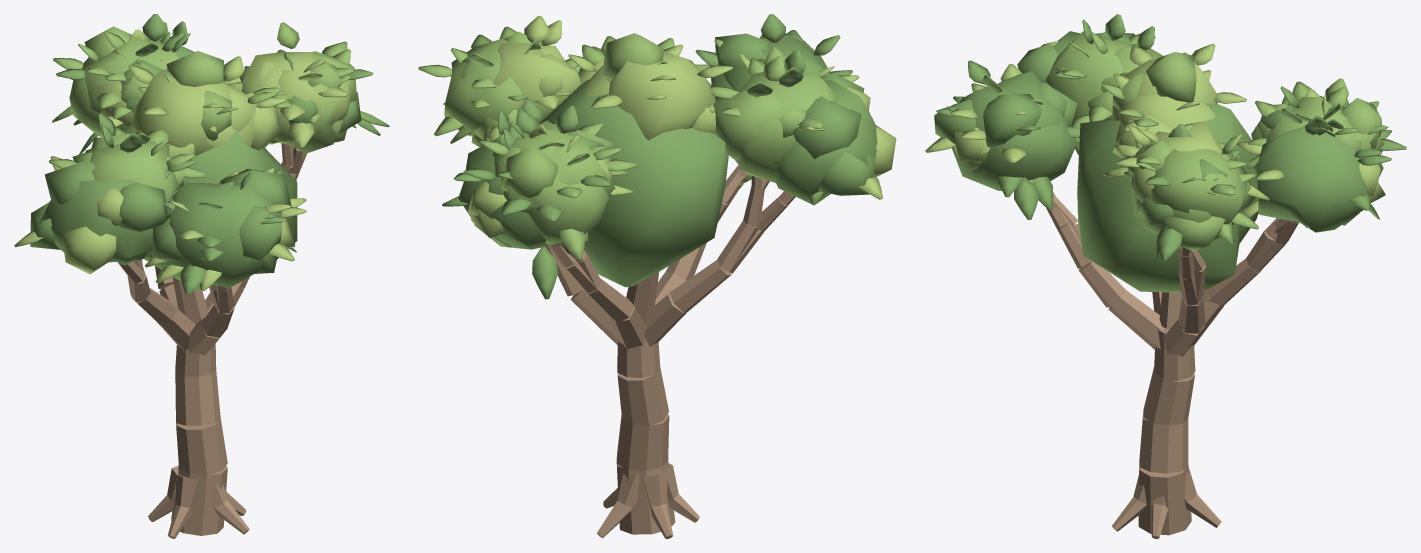
File: Tree_1.gltf
3 views of the same model, side by side, from view 1: azimuth 30°, elevation 25°; view 2: azimuth 150°, elevation 25°; view 3: azimuth 270°, elevation 25° (orthographic). The views are drawn at different scales.
Visible parts, largest first — view 1: Tree_1; view 2: Tree_1; view 3: Tree_1.
Boxes of the visible parts, <box> form: Tree_1: <box>14,14,389,538</box>; Tree_1: <box>418,14,896,538</box>; Tree_1: <box>925,14,1406,538</box>.
Bounding box in the file's own units: 3.19 × 3.63 × 3.33.
